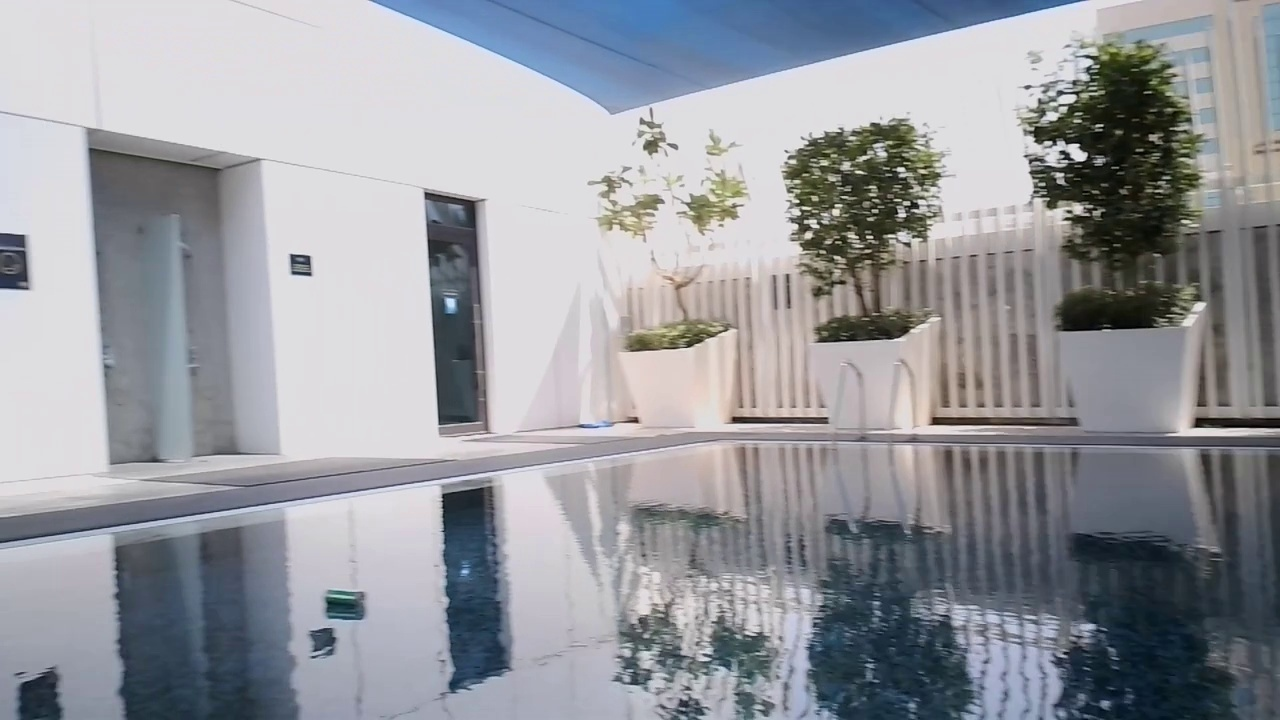debris: (323, 583, 367, 614)
